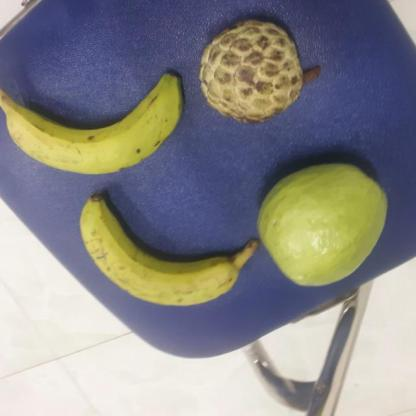annona: (202, 21, 317, 123)
banana: (84, 189, 263, 306), (4, 74, 188, 176)
guava: (257, 162, 394, 284)
